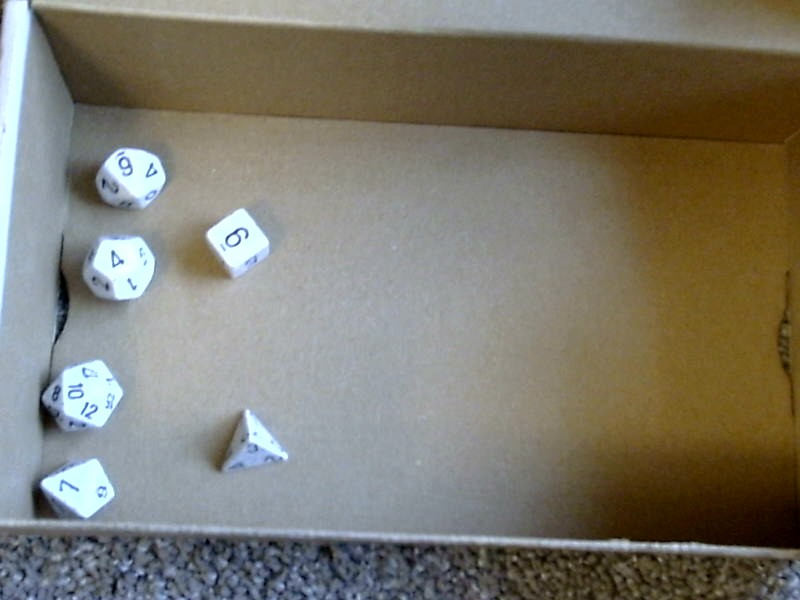d10 6: (86, 144, 174, 212)
d12 4: (79, 228, 161, 309)
d20 10: (35, 355, 128, 440)
d4 3: (214, 403, 297, 484)
d6 6: (202, 204, 286, 285)
d8 7: (33, 456, 117, 531)
